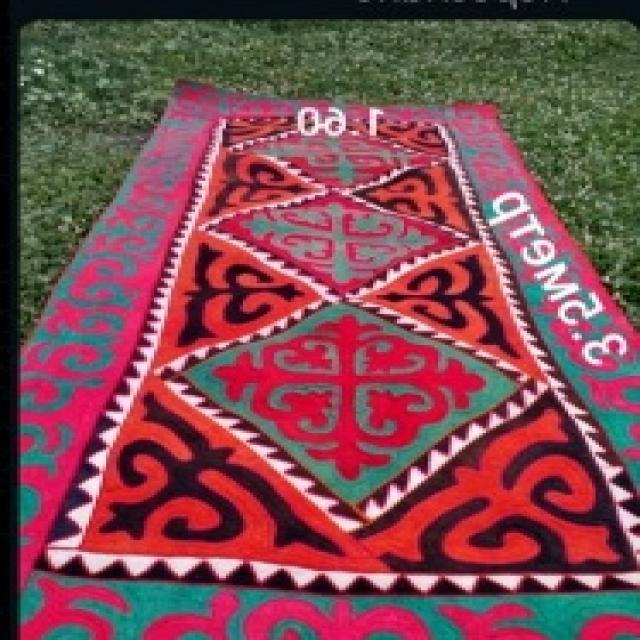Unity: (194, 309, 510, 503), (240, 196, 458, 294)
